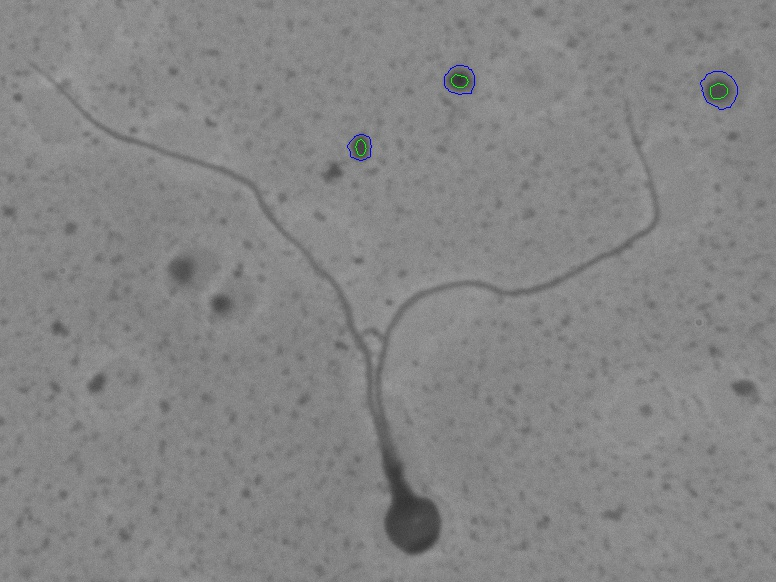Abnormal: (13, 29, 679, 573)
